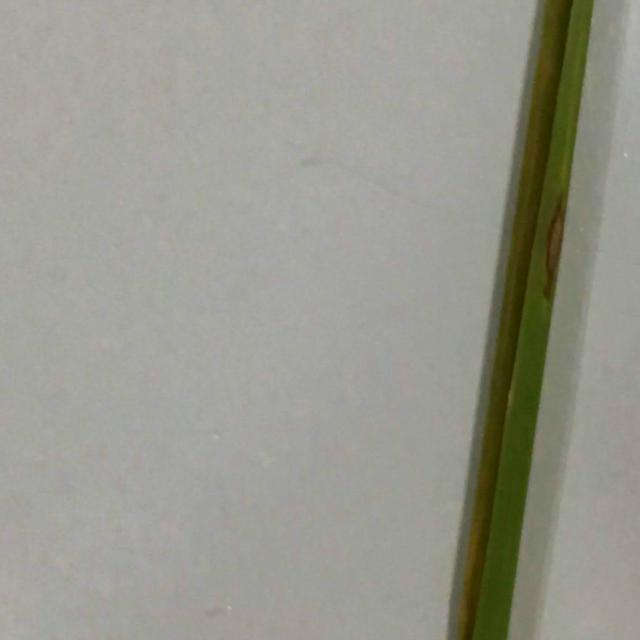Blast: (546, 212, 560, 274)
